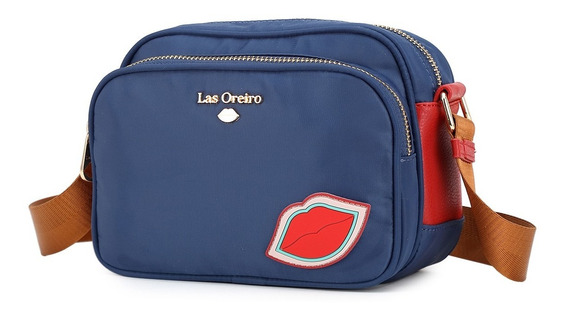cartera: (28, 18, 536, 292)
